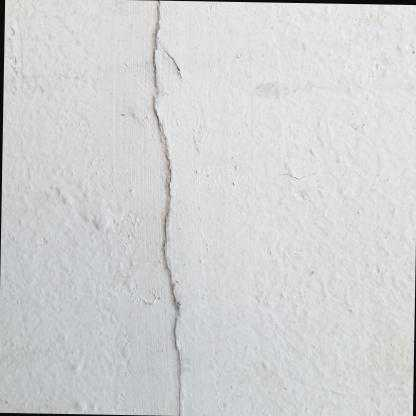crack: (151, 0, 180, 416)
